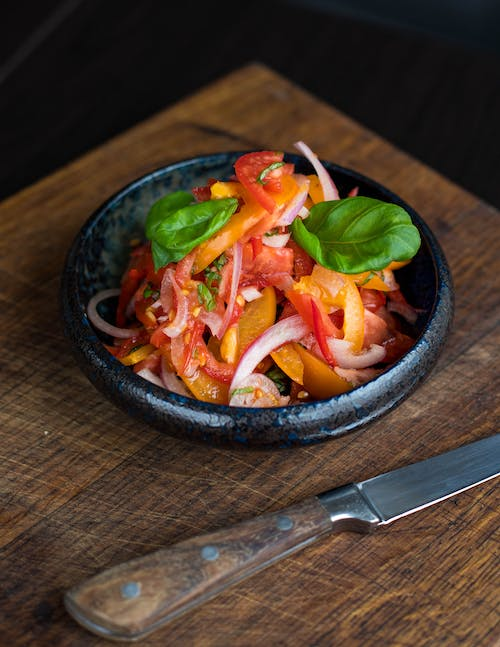knife: (61, 433, 500, 645)
